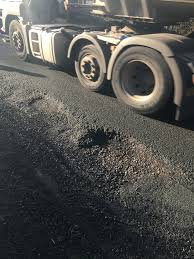pothole: (72, 195, 194, 258), (70, 123, 156, 189), (9, 182, 69, 255), (3, 79, 64, 135)
